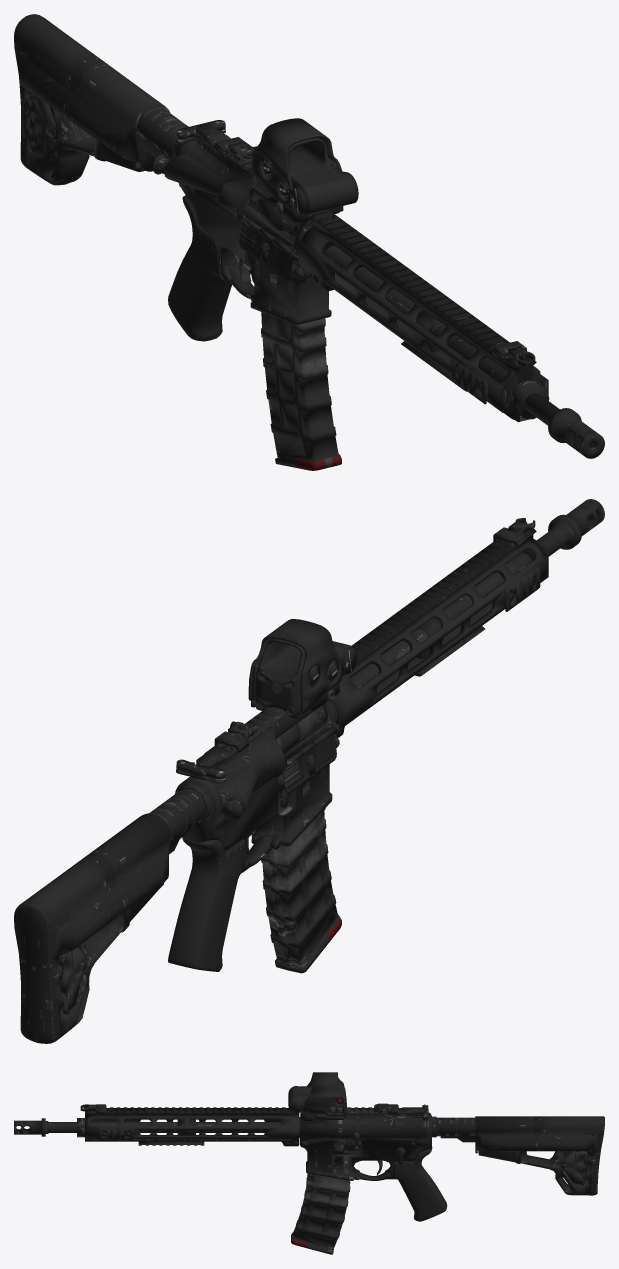
File: Weapons_AR15_Reflex_LOD0.glb
3 renders of one model, top to bottom at view 1: azimuth 30°, elevation 25°; view 2: azimuth 150°, elevation 25°; view 3: azimuth 270°, elevation 25°, orthographic. The views are drawn at different scales.
Parts seen in each view (by area): view 1: Hoodie; view 2: Hoodie; view 3: Hoodie.
Boxes of the visible parts, x1,y1,x2,y2 form: Hoodie: (14, 14, 604, 470); Hoodie: (14, 499, 604, 1043); Hoodie: (14, 1072, 604, 1254).
Bounding box in the file's own units: 0.0707 × 0.2994 × 0.9109.
Materials: 1 (1 with a texture image).
